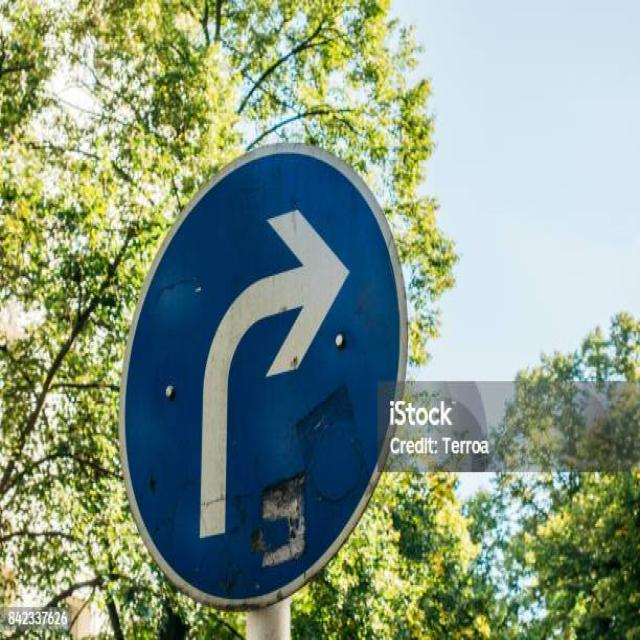RIGHT: (120, 144, 405, 607)
